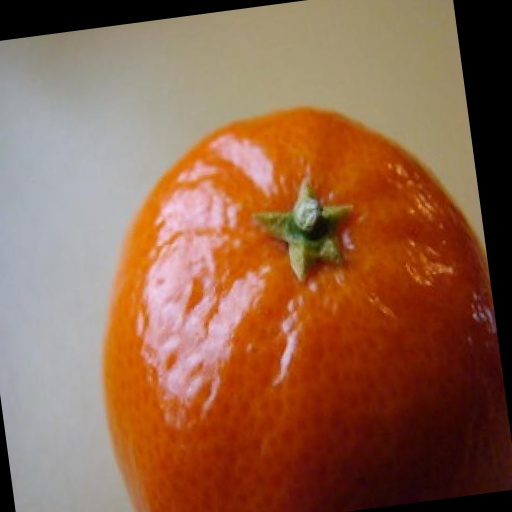fruit: (103, 109, 512, 512)
